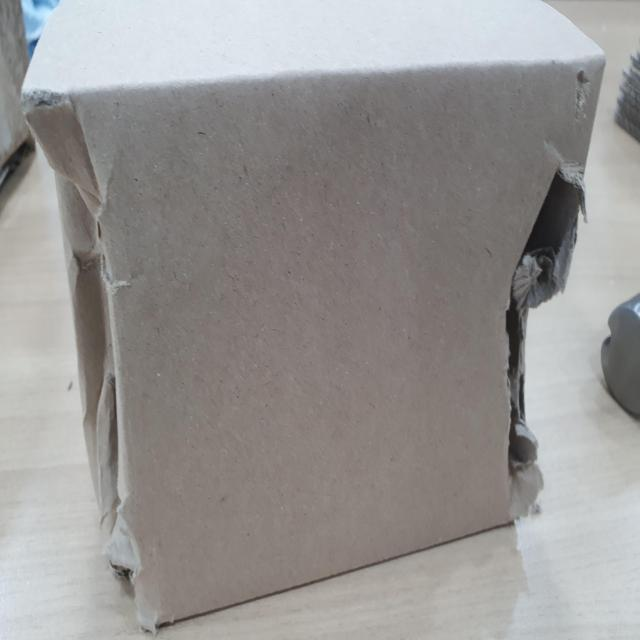damaged: (493, 147, 576, 515)
